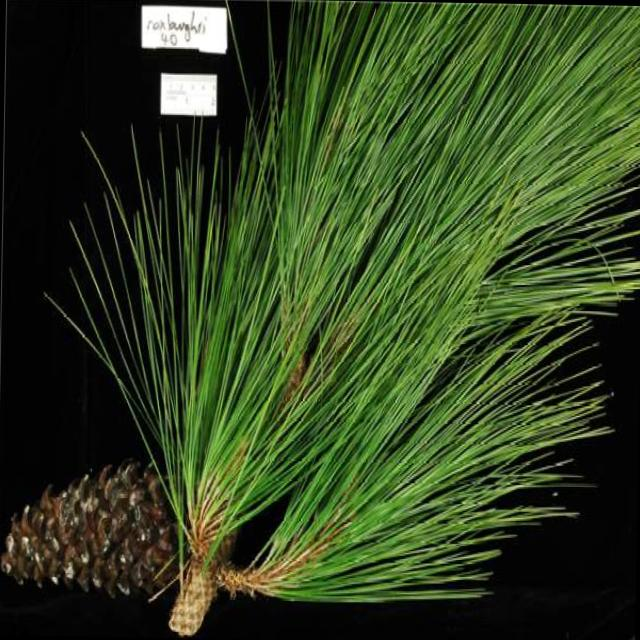Pine: (90, 133, 640, 640), (0, 386, 443, 640)
